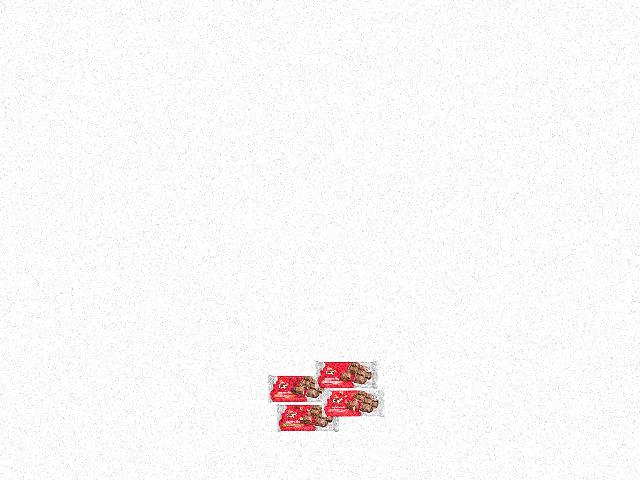chocolate: (271, 398, 342, 435)
